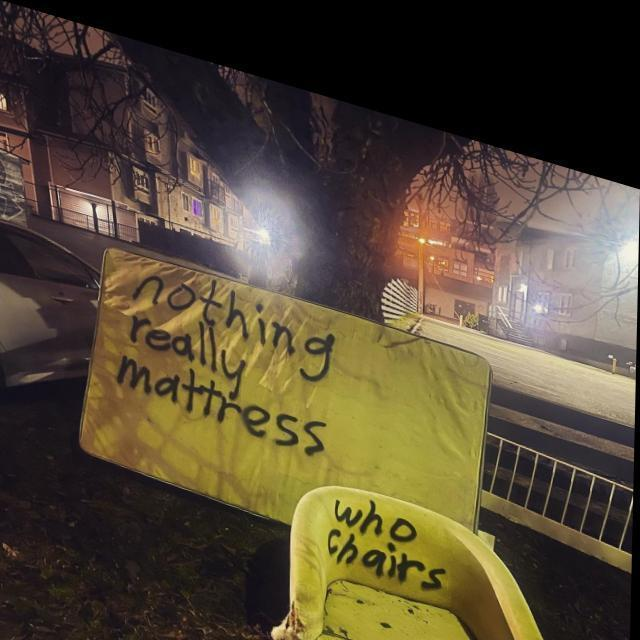-: (83, 224, 352, 458), (314, 466, 466, 584)
